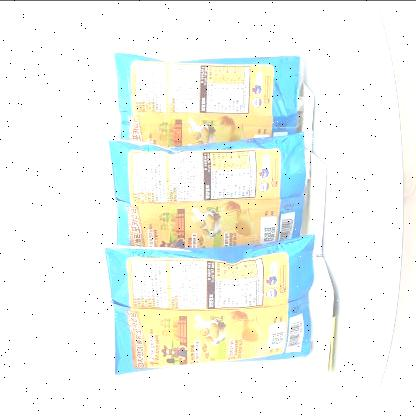Others: (86, 36, 334, 384)
